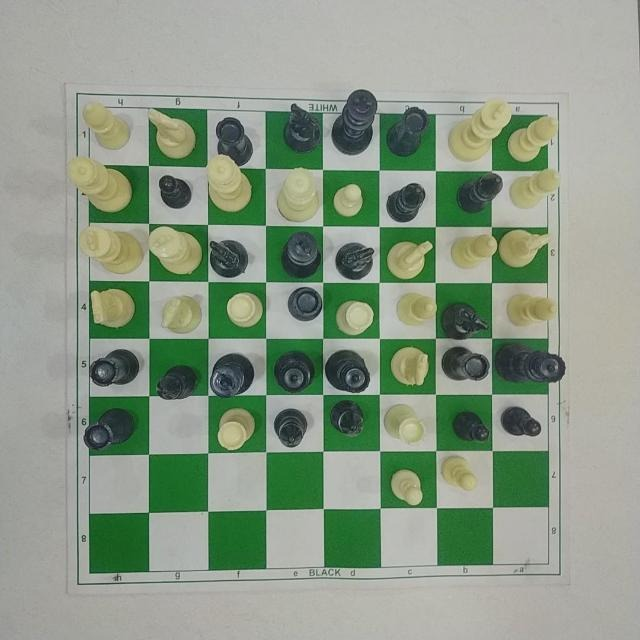black-bishop: (450, 168, 506, 217), (153, 357, 201, 405), (383, 178, 427, 224), (269, 405, 313, 451), (327, 397, 367, 441)
black-king: (329, 85, 379, 160), (209, 347, 257, 399), (278, 229, 326, 281)
black-knight: (282, 97, 324, 153), (442, 298, 492, 338), (207, 237, 255, 277), (334, 239, 376, 283)
black-pawn: (498, 401, 546, 445), (452, 407, 494, 447), (157, 174, 193, 210)
black-queen: (495, 339, 564, 385), (325, 345, 373, 393), (269, 346, 314, 395)
black-rook: (383, 102, 433, 159), (82, 406, 137, 450), (88, 343, 140, 388), (438, 343, 491, 385), (212, 113, 253, 167), (285, 286, 323, 322)
white-bishop: (79, 100, 135, 150), (508, 113, 560, 163), (504, 286, 561, 331), (508, 168, 564, 212), (391, 290, 441, 332), (448, 230, 495, 271)
white-king: (444, 94, 513, 166), (75, 223, 143, 277), (146, 223, 199, 277)
white-knight: (147, 107, 198, 163), (498, 226, 556, 270), (85, 284, 134, 333), (383, 238, 435, 282), (161, 291, 205, 335), (388, 342, 430, 386)
white-pawn: (439, 450, 477, 492), (389, 468, 425, 509), (329, 179, 365, 219)
white-queen: (64, 152, 136, 215), (204, 154, 254, 214), (274, 164, 324, 223)
white-rook: (215, 405, 257, 455), (381, 402, 427, 447), (332, 298, 375, 337), (225, 289, 263, 331)
